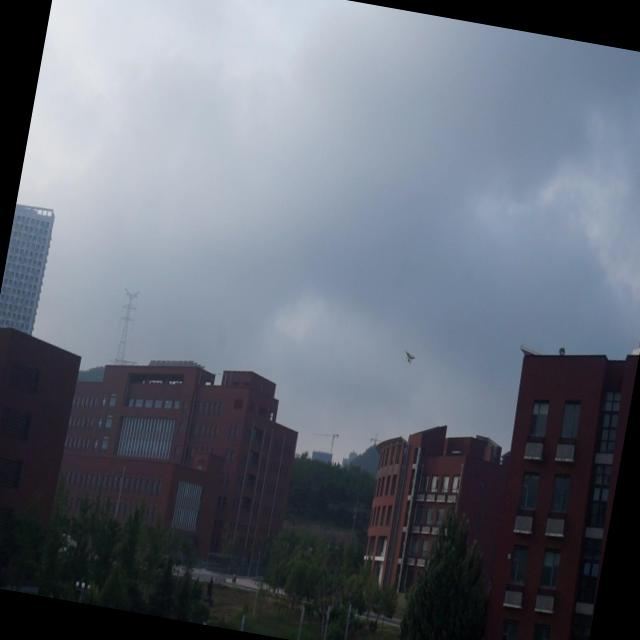drone: (402, 346, 418, 366)
